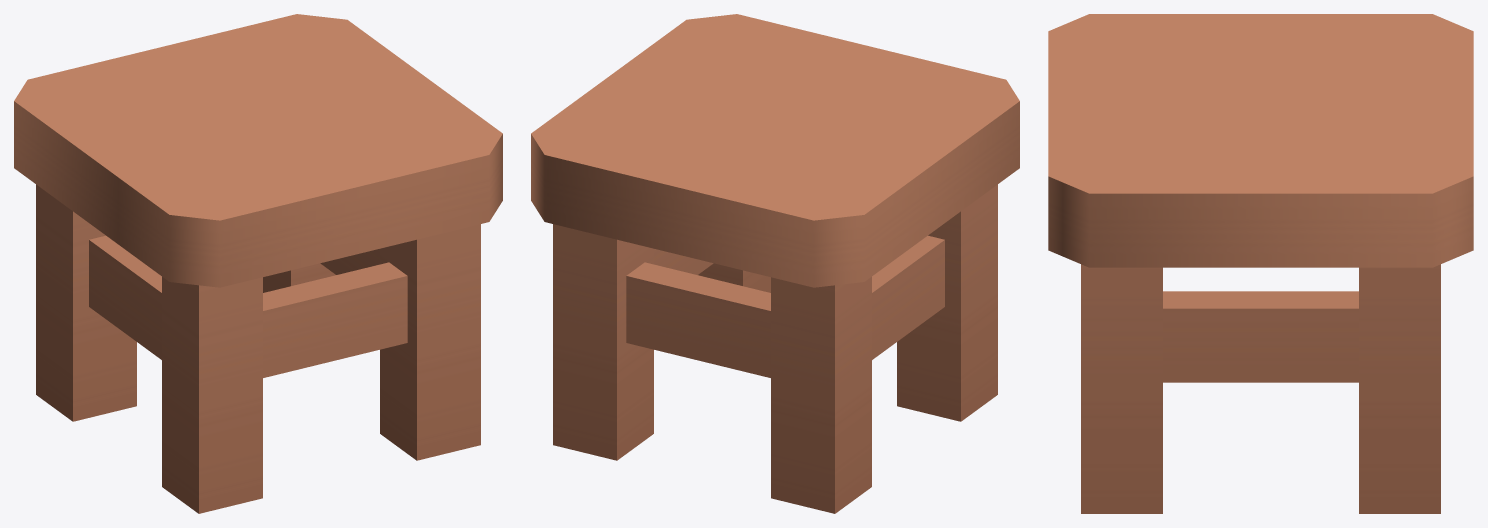
File: stall-stool.fbx
3 views of the same model, side by side, from view 1: azimuth 30°, elevation 25°; view 2: azimuth 150°, elevation 25°; view 3: azimuth 270°, elevation 25° (orthographic). The views are drawn at different scales.
Visible parts, largest first — view 1: stall-stool; view 2: stall-stool; view 3: stall-stool.
Boxes of the visible parts, box(x1,y1,x2,y2) form: stall-stool: box(14, 14, 502, 513); stall-stool: box(531, 14, 1019, 513); stall-stool: box(1048, 14, 1473, 513).
Size of the model in its own units: 26 by 22.55 by 26.
1 material, 1 textured.
